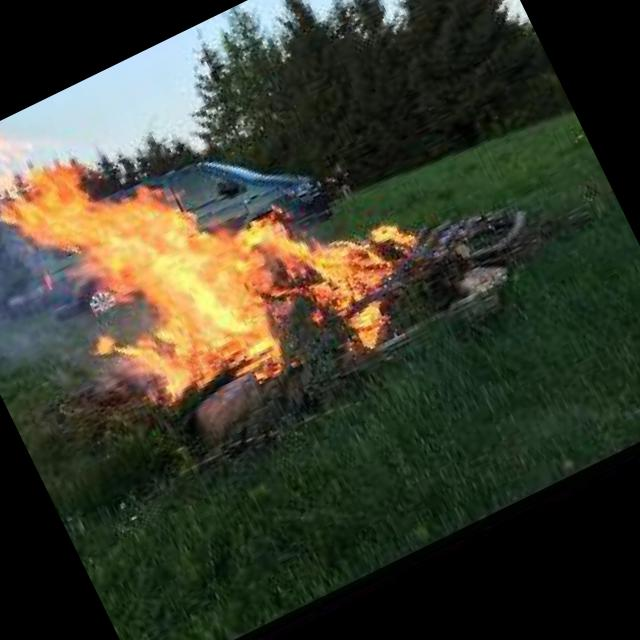fire: (0, 0, 437, 483)
